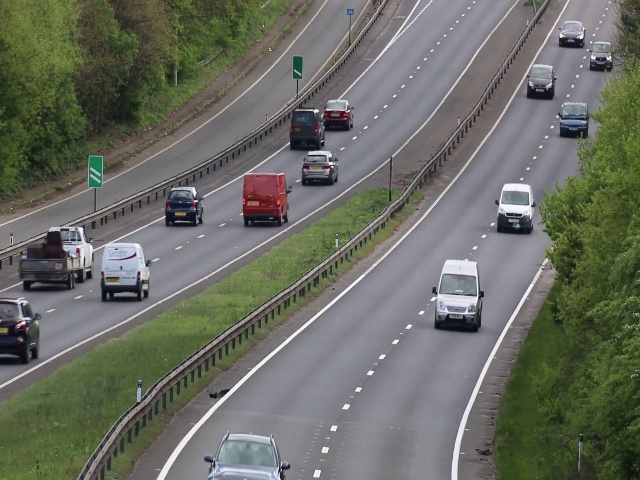car: (21, 227, 95, 290), (101, 242, 150, 302), (437, 259, 477, 331), (1, 299, 43, 365), (242, 170, 290, 227), (496, 183, 532, 234), (166, 184, 204, 229), (287, 108, 327, 149), (303, 149, 338, 185), (559, 101, 588, 138), (528, 62, 556, 100), (324, 95, 354, 130), (558, 22, 586, 49), (589, 40, 613, 68)
